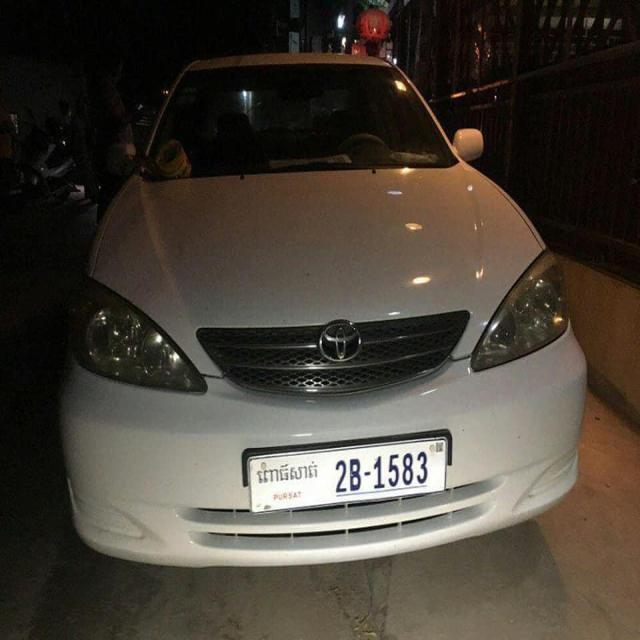Pursat: (255, 460, 320, 488)
